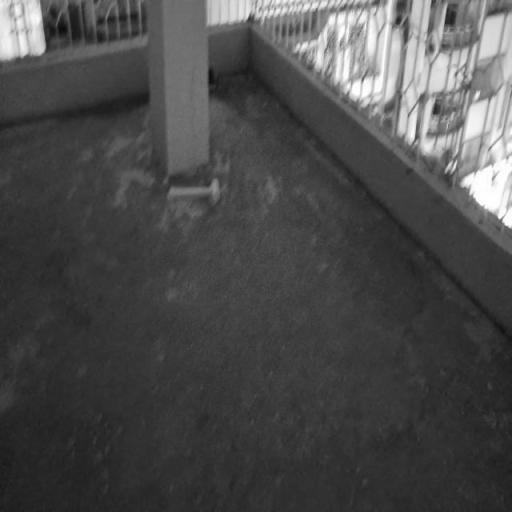mallet: (168, 181, 220, 207)
